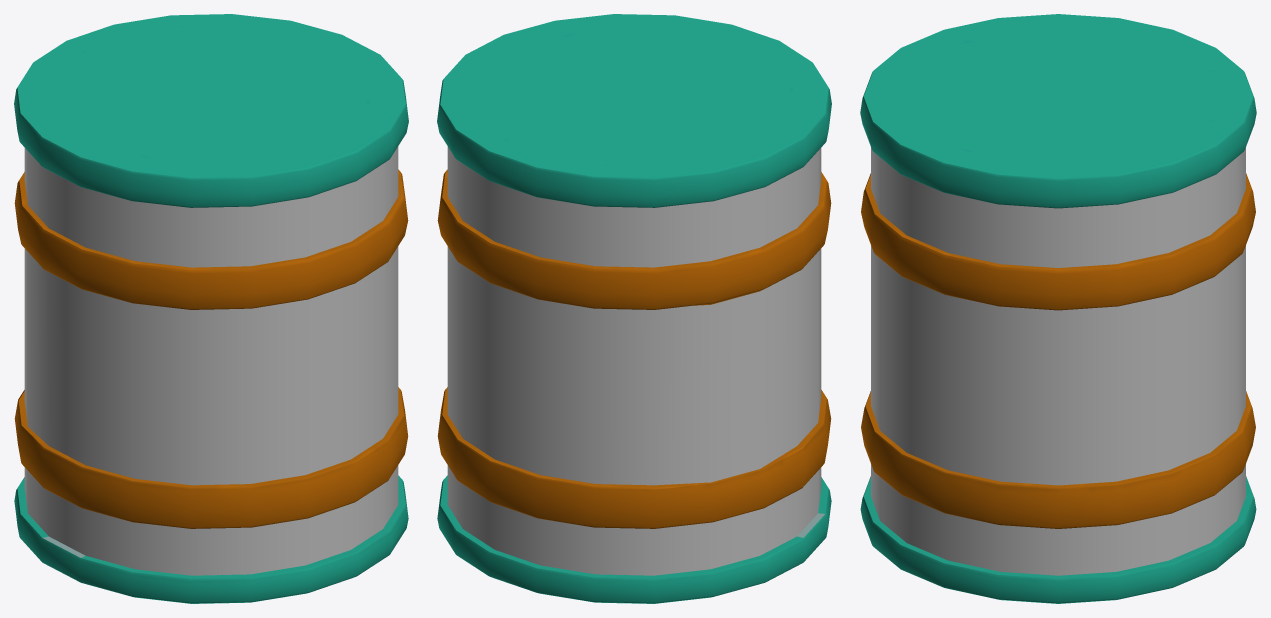
The model's file is Barrel2.fbx.
The picture shows the model from 3 angles, left to right: view 1: azimuth 30°, elevation 25°; view 2: azimuth 150°, elevation 25°; view 3: azimuth 270°, elevation 25°; orthographic projection.
Visible parts, largest first — view 1: Barrel2; view 2: Barrel2; view 3: Barrel2.
Boxes of the visible parts, box(x1,y1,x2,y2) form: Barrel2: box(14, 14, 408, 603); Barrel2: box(437, 14, 831, 603); Barrel2: box(860, 14, 1256, 603).
Size of the model in its own units: 169 by 202 by 169.
